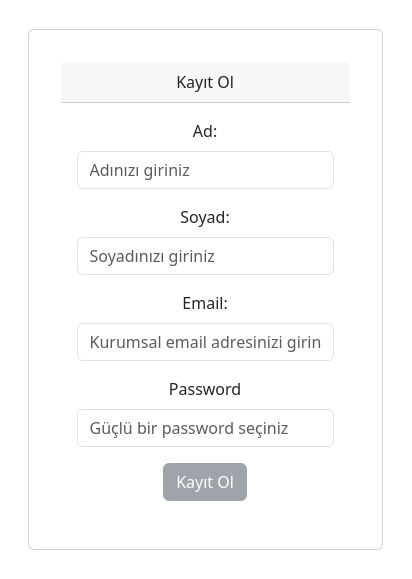
Test: Register Page › Error Messages › surname input throws error for 2 characters
The image size is (412, 579).
Type "ka" into the field with test id "soyad-input".
click(206, 256); type("ka")  # box [77,237,334,275]
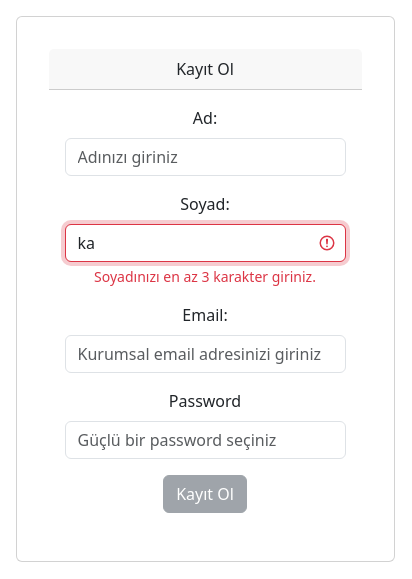
Expected: the text "Soyadınızı en az 3 karakter giriniz." is shown, [94,267,316,286]
